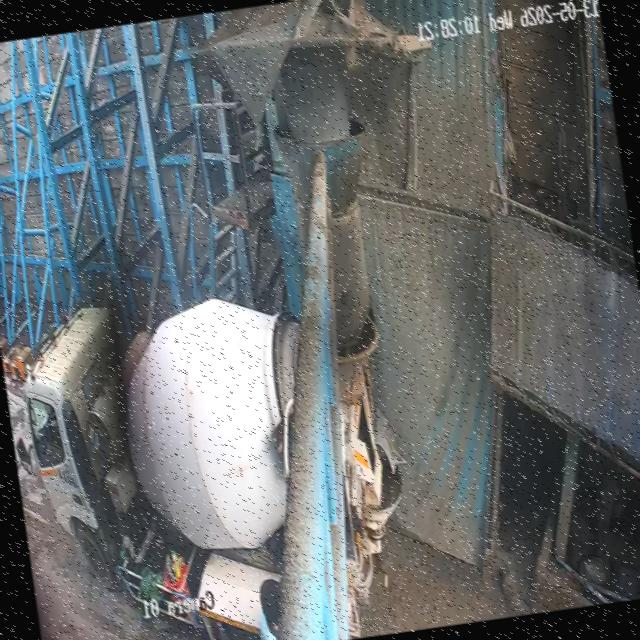cement_mixer_truck: (0, 262, 421, 640)
swing_chute: (274, 113, 371, 353)
